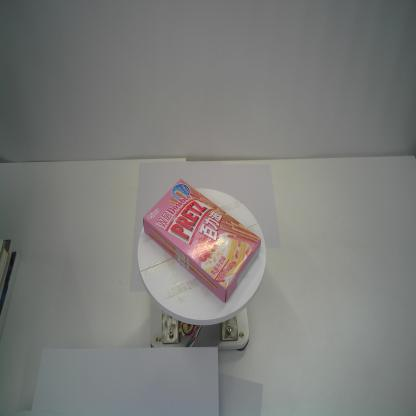Dessert: (142, 178, 262, 303)
